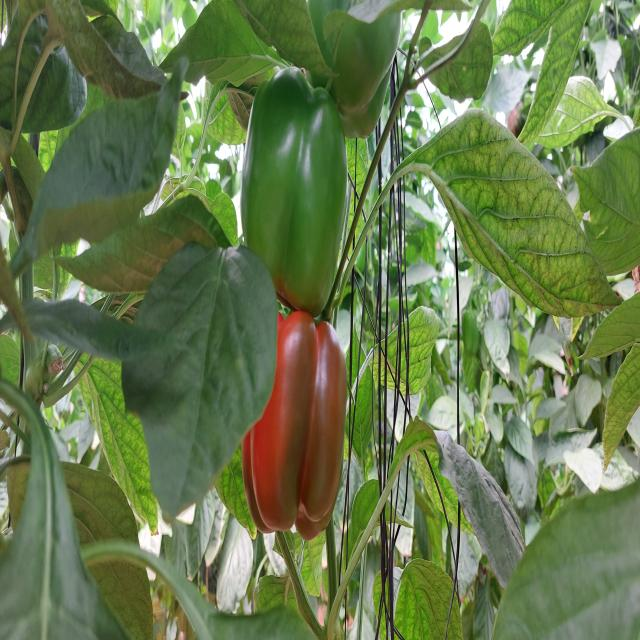BrownishRed--Can-be-Harvested: (233, 307, 358, 539)
Green--Not-ready-to-harvest: (245, 72, 348, 293)
